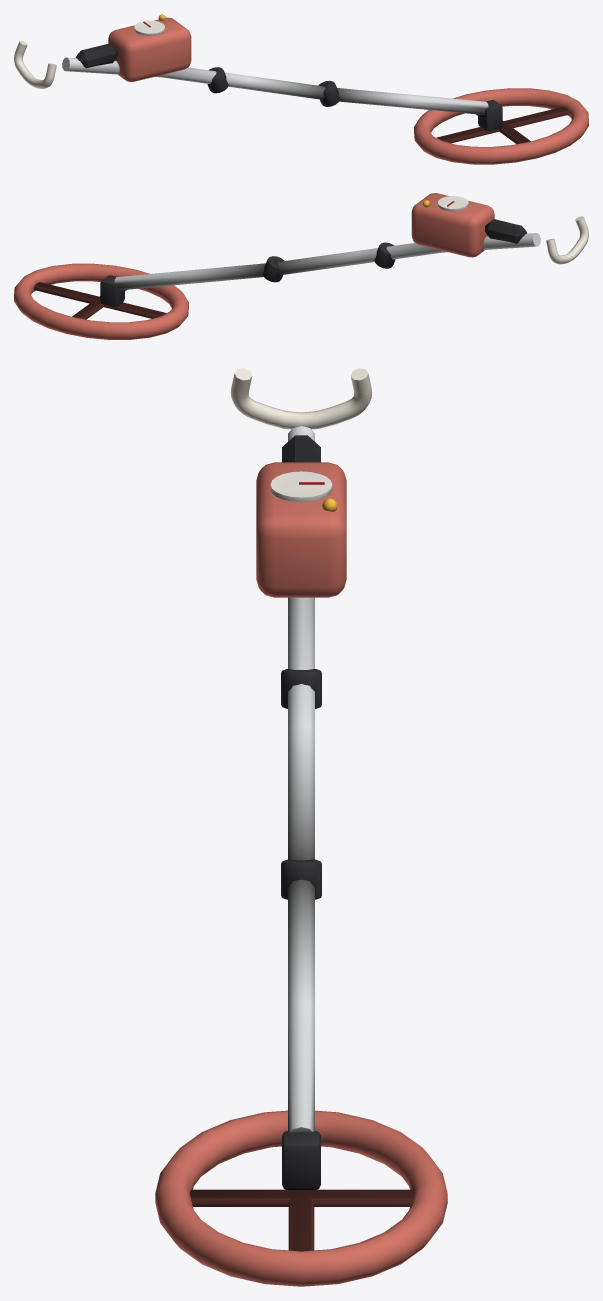
Rendered from nd_metal_detector.glb.
3 views of the same model, one above another, from view 1: azimuth 30°, elevation 25°; view 2: azimuth 150°, elevation 25°; view 3: azimuth 270°, elevation 25° (orthographic). The views are drawn at different scales.
Visible parts, largest first — view 1: PART; view 2: PART; view 3: PART.
Boxes of the visible parts, x1=… form: PART: x1=14, y1=14, x2=588, y2=164; PART: x1=14, y1=193, x2=588, y2=339; PART: x1=155, y1=368, x2=447, y2=1286.
Bounding box in the file's own units: 0.9901 × 0.335 × 0.2266.
